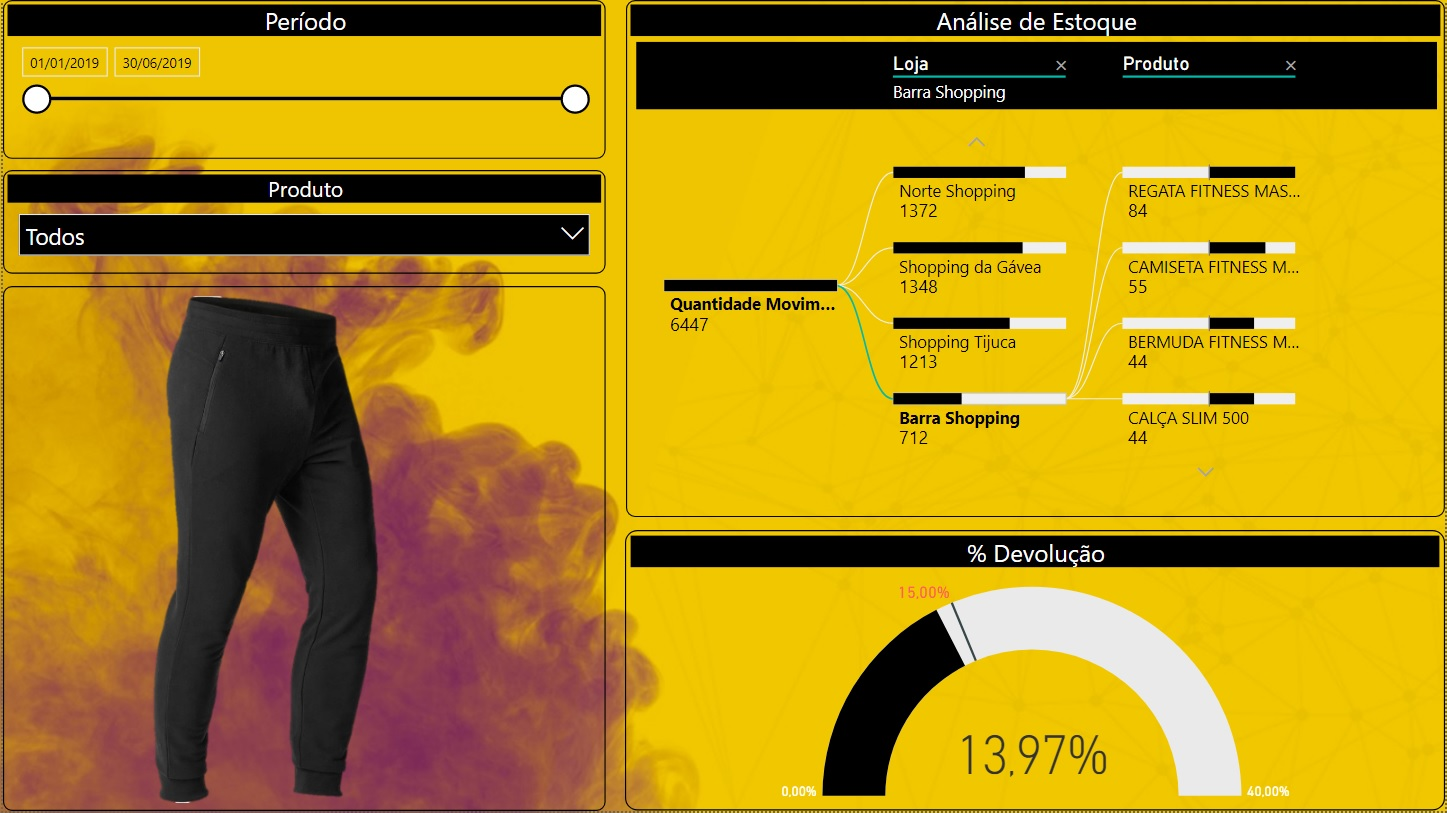

The page's visual inventory and layout, read from the dashboard file:
{"tool":"powerbi","page":{"name":"Página 1","canvas":[1280,720],"ordinal":0},"visuals":[{"type":"gauge","title":"% Devolução","fields":{"Y":["Movimentacoes Estoque.% Devolucao"]},"box":[552.2,470.5,728,249.5],"z":0},{"type":"decompositionTreeVisual","title":"Análise de Estoque","fields":{"ExplainBy":["Movimentacoes Estoque.Loja","Cadastro Produtos.Produto"],"Analyze":["Sum(Movimentacoes Estoque.Quantidade Movimentação)"]},"box":[553.1,0,727.1,459],"z":1000},{"type":"slicer","title":"Período","fields":{"Values":["Movimentacoes Estoque.Data"]},"box":[0,0,535,141.2],"z":1001},{"type":"slicer","title":"Produto","fields":{"Values":["Cadastro Produtos.Produto"]},"box":[0,150.9,535.3,92.3],"z":1002},{"type":"simpleImageEBC4593F96F1425FB3D84C5BF02B5075","title":"Escolha o Produto","fields":{"imageURL":["Cadastro Produtos.Imagem"]},"box":[0,253.9,535.3,466.1],"z":1003}]}

Visuals, with their boxes in screenshot pixels (x1, y1, x2, y2), scaled from the page's 1280x720 canvas onto the 1447x813 screenshot:
"% Devolução" gauge: Rect(624, 531, 1446, 812)
"Análise de Estoque" decompositionTreeVisual: Rect(625, 0, 1446, 518)
"Período" slicer: Rect(0, 0, 605, 159)
"Produto" slicer: Rect(0, 170, 605, 275)
"Escolha o Produto" simpleImageEBC4593F96F1425FB3D84C5BF02B5075: Rect(0, 287, 605, 812)
